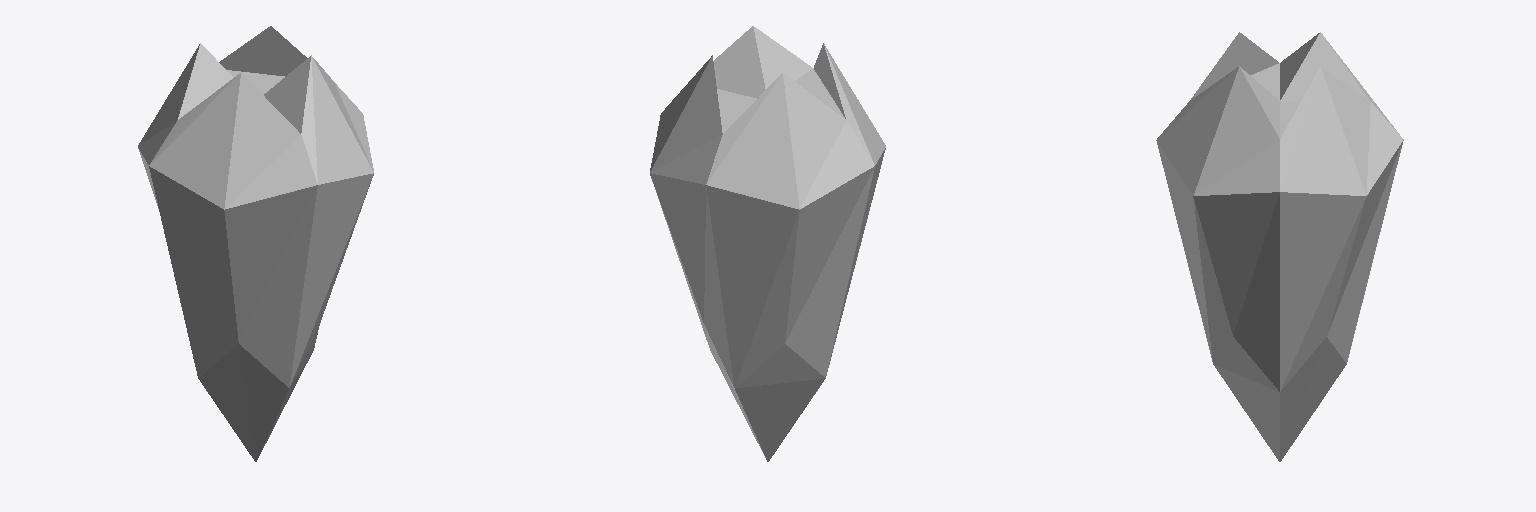
Rendered from crystalized blood obj.obj.
The picture shows the model from 3 angles: view 1: azimuth 30°, elevation 25°; view 2: azimuth 150°, elevation 25°; view 3: azimuth 270°, elevation 25°; orthographic projection.
Visible parts, largest first — view 1: Cube_Cube.001; view 2: Cube_Cube.001; view 3: Cube_Cube.001.
Part boxes in pixels (bbox=[...]): Cube_Cube.001: bbox=[138, 26, 373, 461]; Cube_Cube.001: bbox=[650, 26, 885, 461]; Cube_Cube.001: bbox=[1156, 32, 1403, 461].
Bounding box in the file's own units: 2.86 × 5.27 × 2.86.